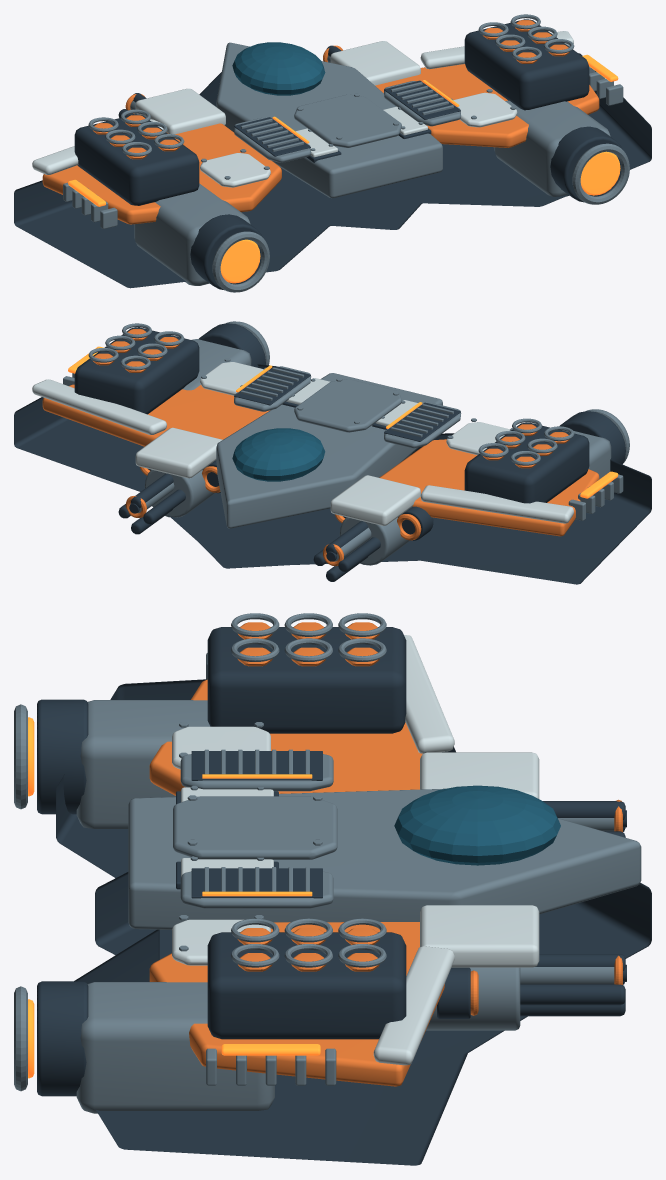
Rendered from Manta.fbx.
The picture shows the model from 3 angles, top to bottom: view 1: azimuth 30°, elevation 25°; view 2: azimuth 150°, elevation 25°; view 3: azimuth 270°, elevation 25°; orthographic projection. The views are drawn at different scales.
Parts seen in each view (by area): view 1: Broad manta armor.003, Central command shell.003, Missile cassette.007, Missile cassette.006, Ochre wing armor.006, Heavy engine.006, Ochre wing armor.007, Heavy engine.007, Low armored canopy.003, Inset service armor.223, Gun shield.006, Gun shield.007 (+16 smaller); view 2: Broad manta armor.003, Central command shell.003, Missile cassette.007, Ochre wing armor.006, Missile cassette.006, Ochre wing armor.007, Low armored canopy.003, Inset service armor.223, Gun shield.006, Gun shield.007, Wing ivory rim.006, Wing ivory rim.007 (+19 smaller); view 3: Broad manta armor.003, Central command shell.003, Heavy engine.007, Missile cassette.007, Missile cassette.006, Low armored canopy.003, Heavy engine.006, Inset service armor.223, Ochre wing armor.007, Ochre wing armor.006, Gun shield.007, Armored thruster.007 (+22 smaller).
Part boxes in pixels (x1,y1,x2,y2): Broad manta armor.003: (14, 53, 651, 288); Central command shell.003: (216, 42, 442, 198); Missile cassette.007: (464, 19, 589, 110); Missile cassette.006: (74, 114, 199, 205); Ochre wing armor.006: (42, 123, 281, 224); Heavy engine.006: (134, 183, 250, 285); Ochre wing armor.007: (375, 64, 599, 147); Heavy engine.007: (494, 100, 610, 196); Low armored canopy.003: (232, 42, 325, 95); Inset service armor.223: (294, 94, 401, 147); Gun shield.006: (135, 88, 225, 134); Gun shield.007: (330, 41, 420, 85); Broad manta armor.003: (14, 364, 651, 584); Central command shell.003: (216, 373, 442, 528); Missile cassette.007: (74, 327, 199, 414); Ochre wing armor.006: (379, 439, 599, 536); Missile cassette.006: (464, 422, 589, 503); Ochre wing armor.007: (42, 384, 269, 446); Low armored canopy.003: (232, 428, 325, 481); Inset service armor.223: (294, 379, 401, 432); Gun shield.006: (330, 475, 420, 525); Gun shield.007: (135, 427, 222, 478); Wing ivory rim.006: (420, 485, 573, 523); Wing ivory rim.007: (32, 379, 166, 434); Broad manta armor.003: (56, 679, 651, 1165); Central command shell.003: (128, 788, 641, 930); Heavy engine.007: (76, 982, 274, 1113); Missile cassette.007: (207, 932, 406, 1039); Missile cassette.006: (207, 627, 406, 733); Low armored canopy.003: (394, 785, 560, 865); Heavy engine.006: (76, 700, 209, 828); Inset service armor.223: (173, 796, 337, 859); Ochre wing armor.007: (149, 922, 444, 1086); Ochre wing armor.006: (149, 679, 422, 795); Gun shield.007: (420, 905, 539, 967); Armored thruster.007: (37, 981, 88, 1096).
Size of the model in its own units: 529 by 92.8 by 321.
